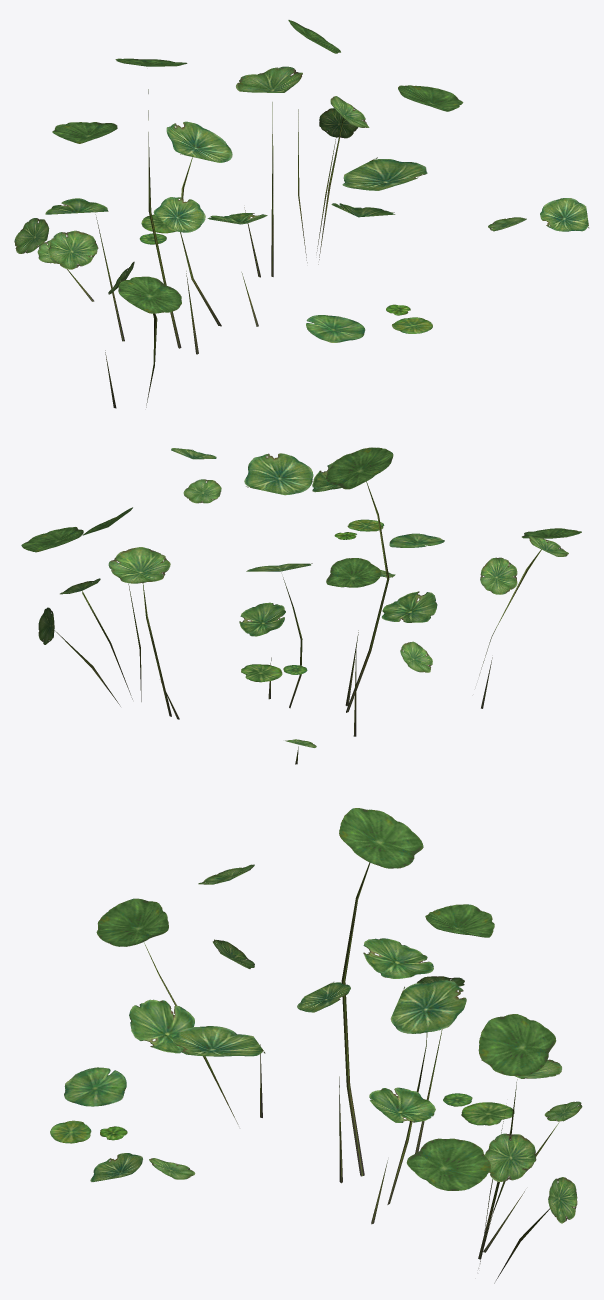
Rendered from 5012_Item_cao_1.FBX.
The picture shows the model from 3 angles, top to bottom: view 1: azimuth 30°, elevation 25°; view 2: azimuth 150°, elevation 25°; view 3: azimuth 270°, elevation 25°; orthographic projection. The views are drawn at different scales.
Parts seen in each view (by area): view 1: 5012_Item_cao_1; view 2: 5012_Item_cao_1; view 3: 5012_Item_cao_1.
Boxes of the visible parts, x1=… form: 5012_Item_cao_1: x1=14, y1=20, x2=588, y2=408; 5012_Item_cao_1: x1=21, y1=447, x2=581, y2=764; 5012_Item_cao_1: x1=50, y1=808, x2=582, y2=1283.
Size of the model in its own units: 199 by 111 by 166.
